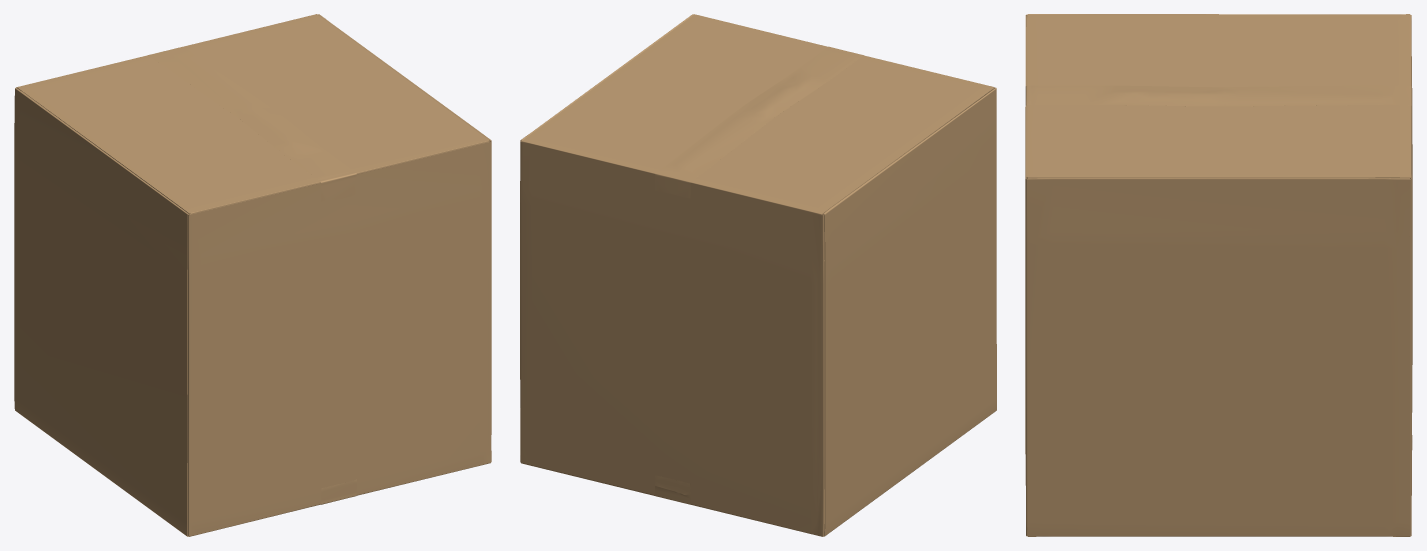
Rendered from warehouse_box_cube_a07.glb.
The picture shows the model from 3 angles, left to right: view 1: azimuth 30°, elevation 25°; view 2: azimuth 150°, elevation 25°; view 3: azimuth 270°, elevation 25°; orthographic projection. The views are drawn at different scales.
Size of the model in its own units: 0.5143 by 0.5223 by 0.5077.
